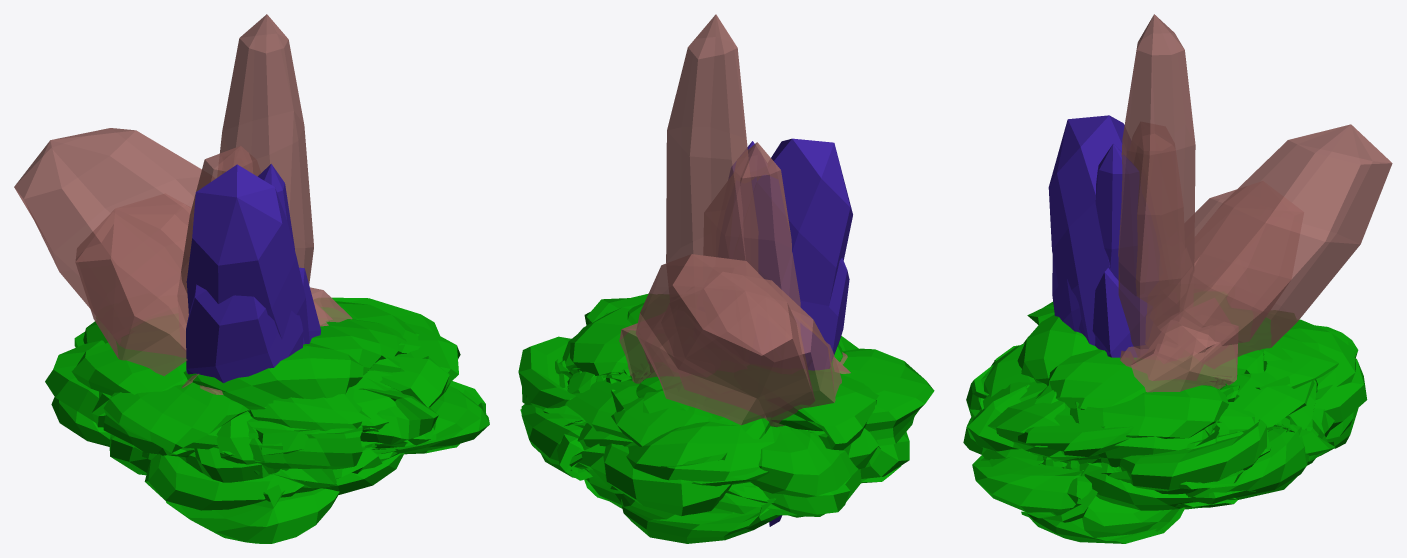
File: crystal18.obj
3 views of the same model, side by side, from view 1: azimuth 30°, elevation 25°; view 2: azimuth 150°, elevation 25°; view 3: azimuth 270°, elevation 25° (orthographic). The views are drawn at different scales.
Parts seen in each view (by area): view 1: Cube.001, Circle, Circle.001; view 2: Cube.001, Circle, Circle.001; view 3: Cube.001, Circle, Circle.001.
Boxes of the visible parts, x1,y1,x2,y2 form: Cube.001: (45, 297, 489, 543); Circle: (14, 14, 352, 394); Circle.001: (186, 164, 320, 383); Cube.001: (518, 294, 934, 543); Circle: (619, 14, 850, 426); Circle.001: (728, 138, 852, 526); Cube.001: (963, 302, 1367, 543); Circle: (1118, 14, 1392, 392); Circle.001: (1048, 115, 1147, 357).
Size of the model in its own units: 2.23 by 2.99 by 2.27.
